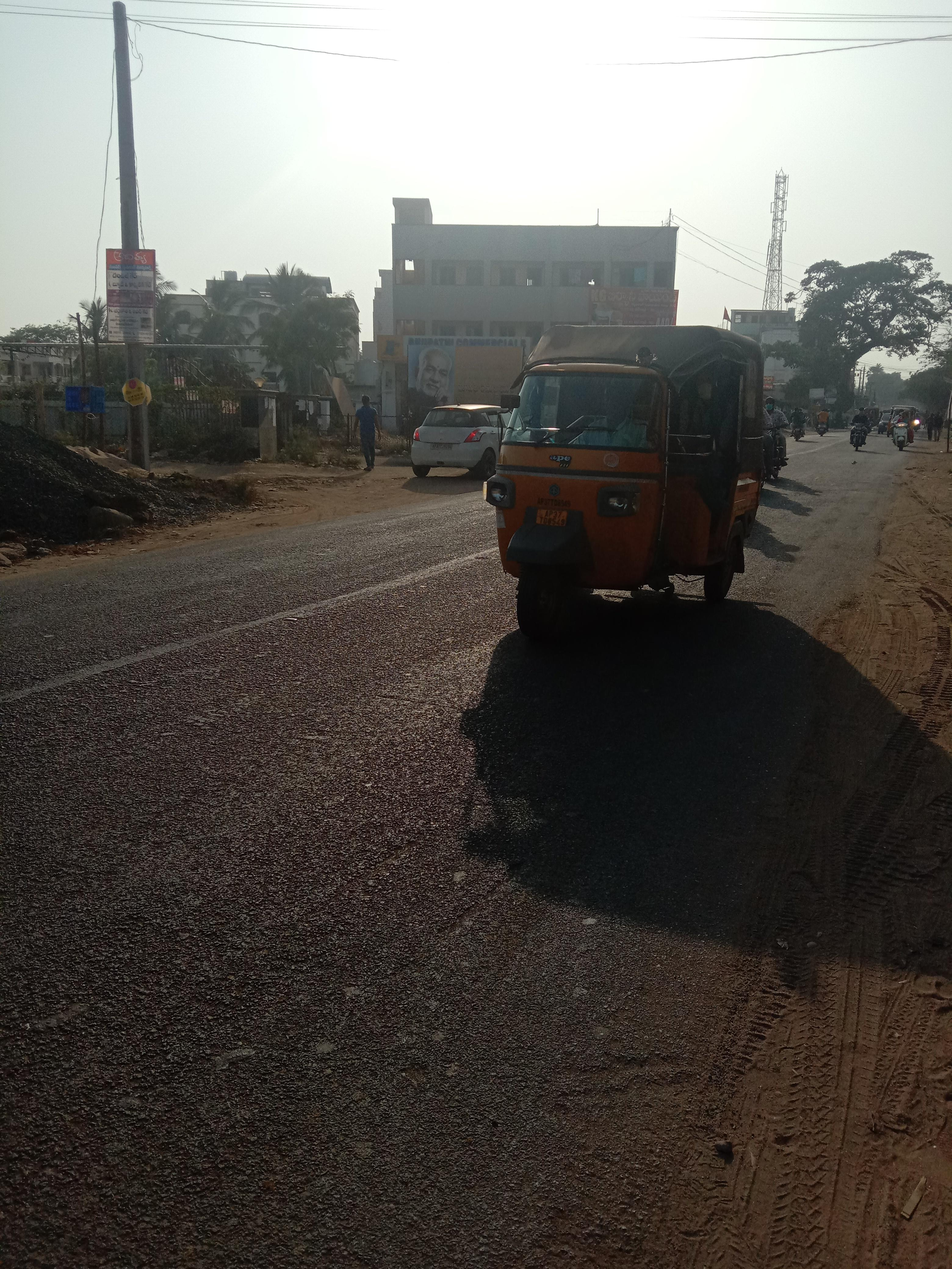Non-emergency: (453, 283, 810, 636)
